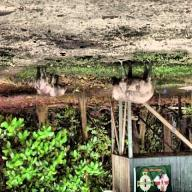boar: (98, 59, 155, 115), (29, 63, 52, 98), (50, 66, 71, 101)
